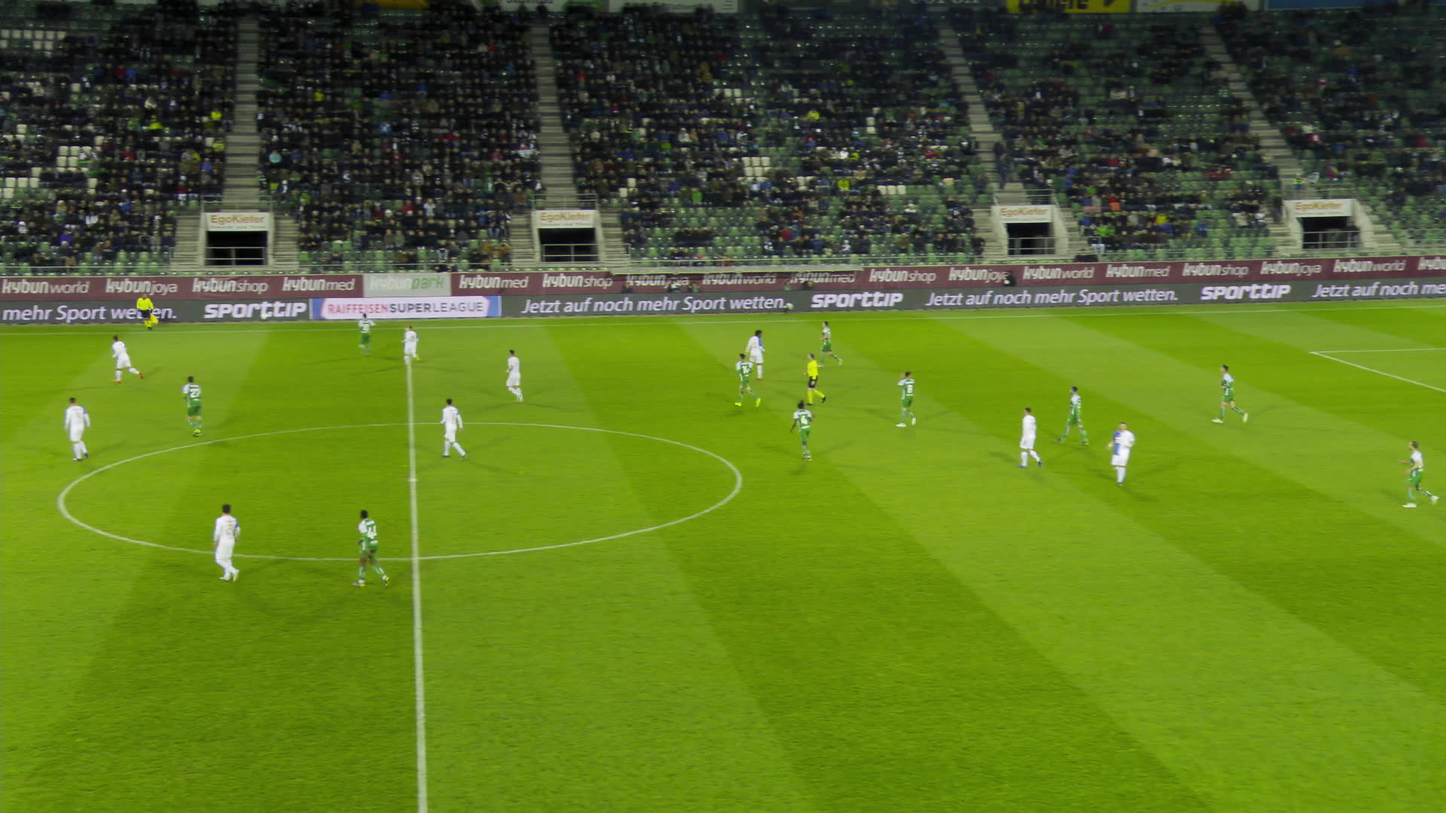ball: (261, 309, 268, 317)
player: (344, 507, 389, 588), (1396, 438, 1435, 507), (209, 503, 239, 585), (426, 397, 462, 458), (56, 397, 87, 464), (1213, 364, 1248, 422), (1108, 421, 1136, 485), (1055, 385, 1084, 446), (174, 376, 201, 440), (786, 401, 812, 462), (1017, 408, 1041, 470), (105, 334, 134, 383), (892, 370, 916, 427), (736, 329, 762, 379), (500, 349, 523, 403), (734, 355, 757, 408), (813, 321, 837, 367), (356, 312, 378, 355), (398, 324, 414, 363)
referee: (799, 357, 825, 409), (129, 294, 153, 329)
